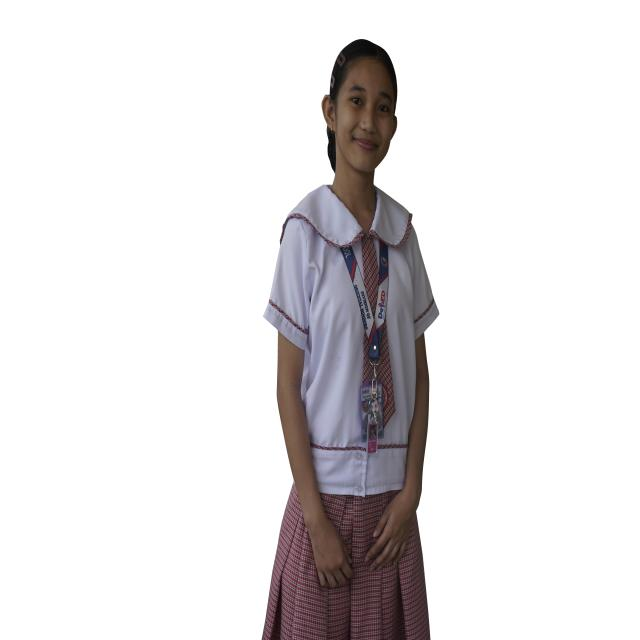id lace: (341, 241, 388, 361), (377, 320, 395, 420), (363, 335, 373, 382)
pologirl: (264, 185, 439, 497), (359, 234, 380, 321)
skirt: (263, 486, 430, 640)
